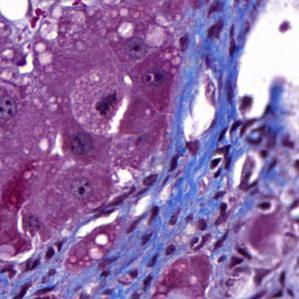inflammation: (223, 243, 257, 268), (208, 152, 227, 173)
